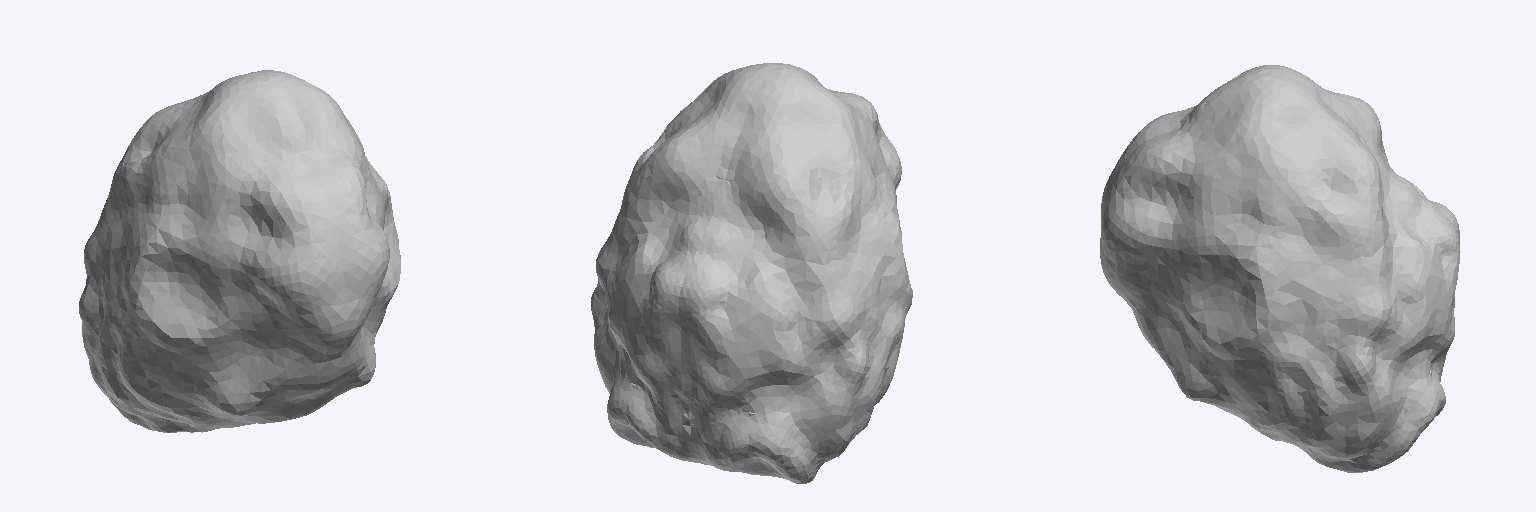
File: brain.obj
The picture shows the model from 3 angles: view 1: azimuth 30°, elevation 25°; view 2: azimuth 150°, elevation 25°; view 3: azimuth 270°, elevation 25°; orthographic projection.
Size of the model in its own units: 2.48 by 3.18 by 2.83.